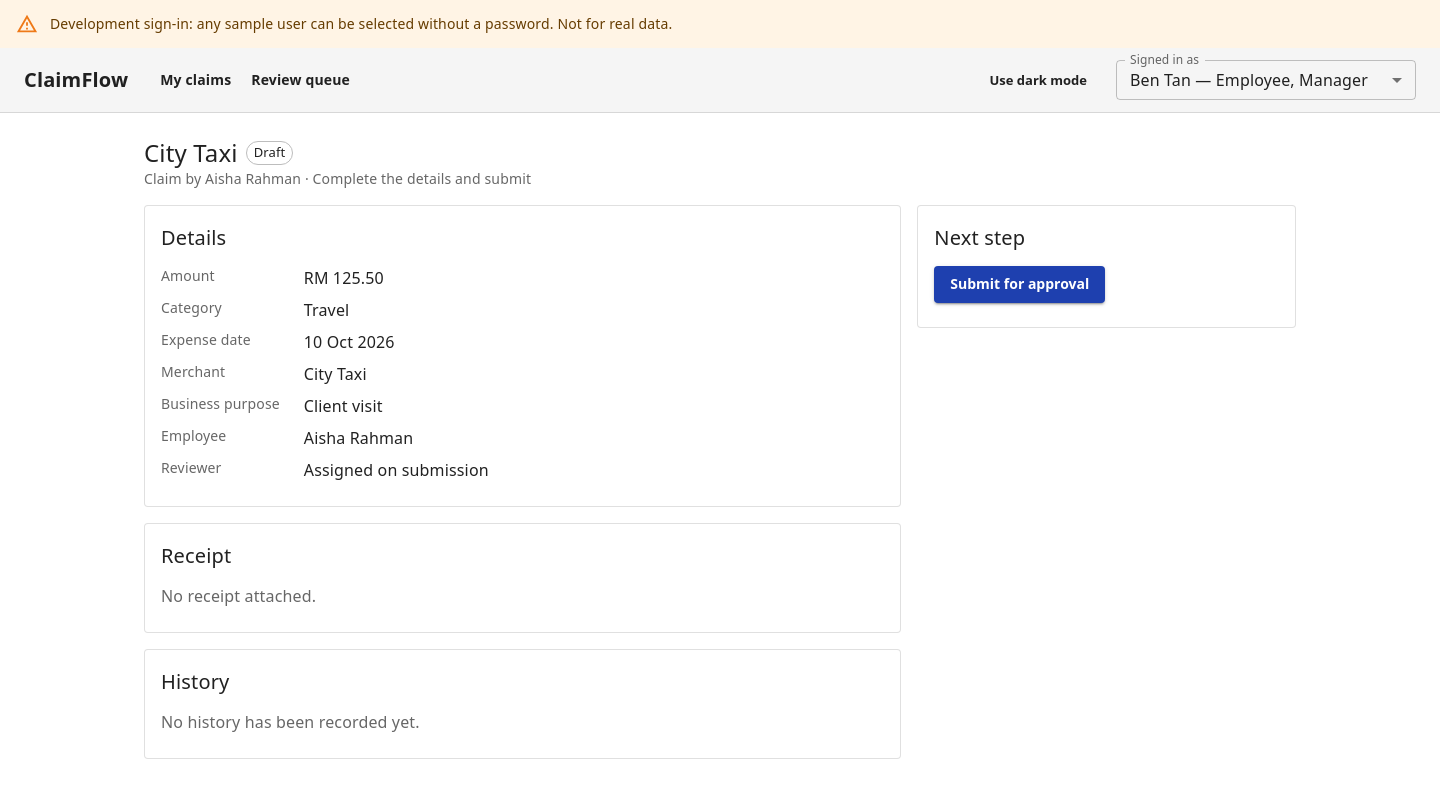
Test: lifecycle actions › SUBMIT sends the claim version with no comment, updates the page, and confirms
The image size is (1440, 810).
What coordinates should you click on to do the following:
click the button "Submit for approval"
I would click on:
 (1020, 284)
Its box is x1=934 y1=266 x2=1105 y2=302.
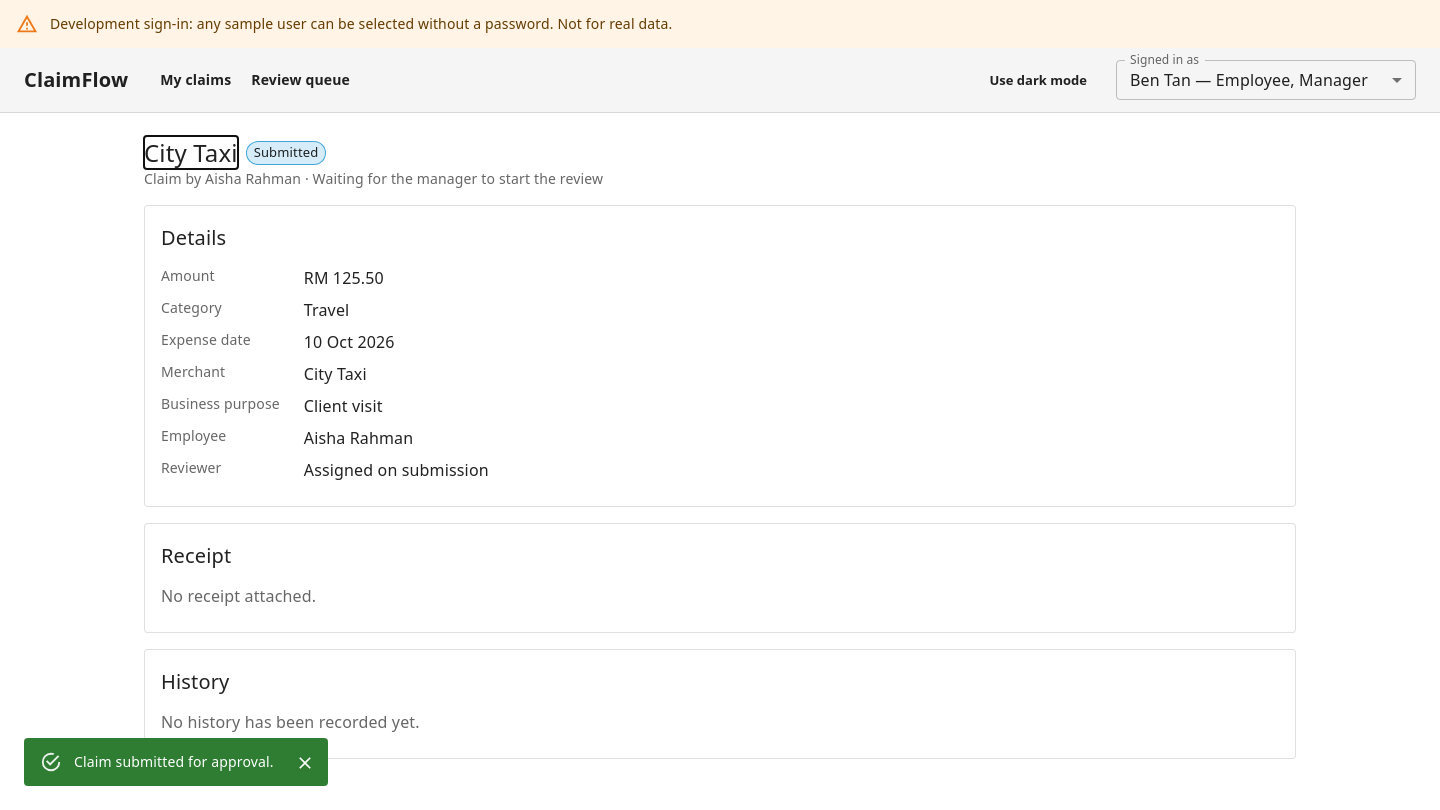
expect the text "Claim submitted for approval." is shown: met, box x1=74 y1=752 x2=274 y2=771
expect the button "Submit for approval" is gone: met
